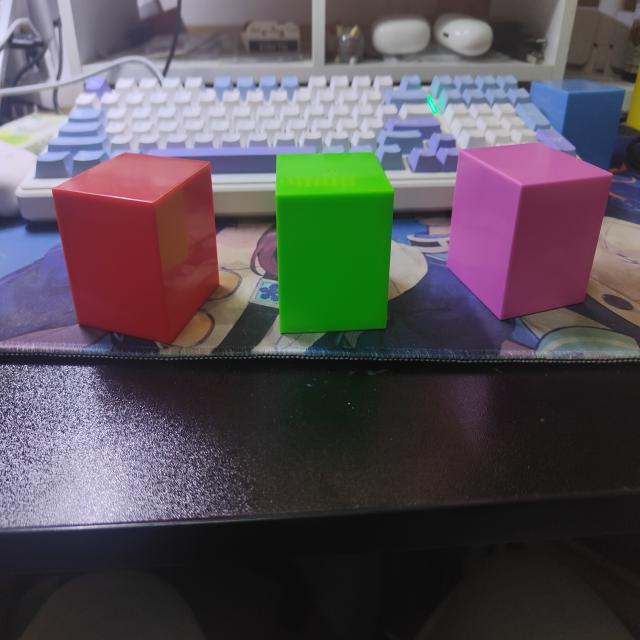green: (274, 152, 395, 337)
pink: (447, 143, 613, 323)
red: (51, 152, 220, 347)
